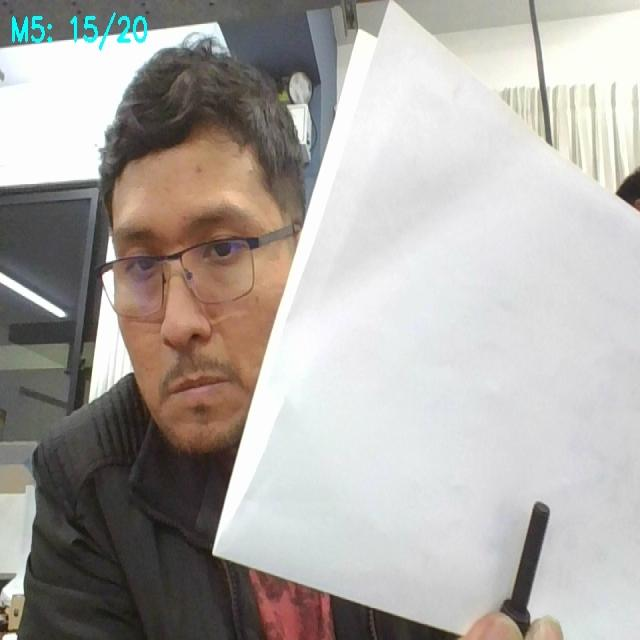vastago: (511, 501, 549, 608)
